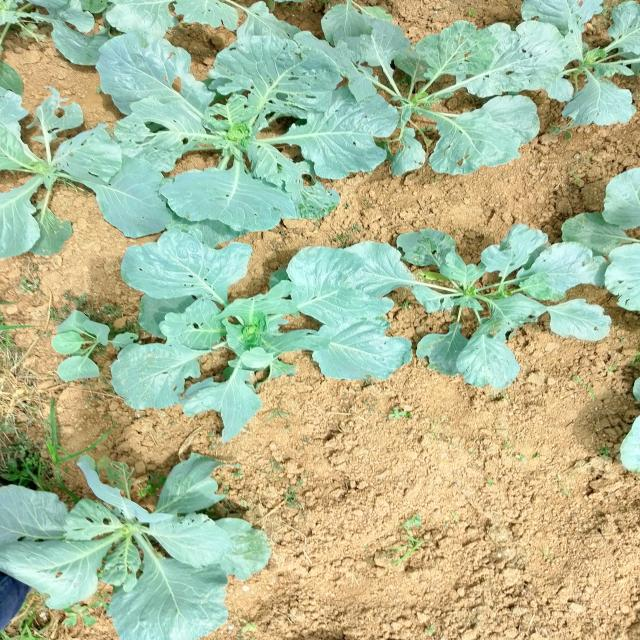Cabbage: (92, 241, 440, 428), (0, 431, 302, 640), (89, 33, 347, 246), (396, 207, 607, 390), (322, 0, 532, 171), (0, 52, 147, 256), (467, 0, 640, 139), (93, 0, 426, 38), (0, 0, 114, 59)
